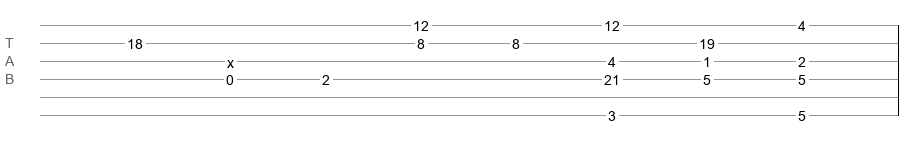0: (226, 72, 234, 82)
1: (703, 54, 711, 64)
12: (413, 18, 429, 28), (604, 18, 620, 28)
18: (127, 36, 143, 46)
19: (699, 36, 715, 46)
2: (322, 72, 330, 82), (798, 54, 806, 64)
21: (604, 72, 620, 82)
3: (608, 108, 616, 118)
4: (608, 54, 616, 64), (798, 18, 806, 28)
5: (703, 72, 711, 82), (798, 72, 806, 82), (798, 108, 806, 118)
8: (417, 36, 425, 46), (512, 36, 520, 46)
x: (227, 55, 234, 63)
